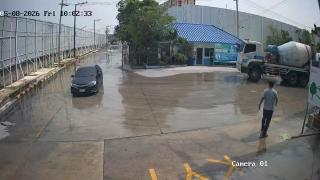cement_mixer_truck: (236, 36, 320, 87)
